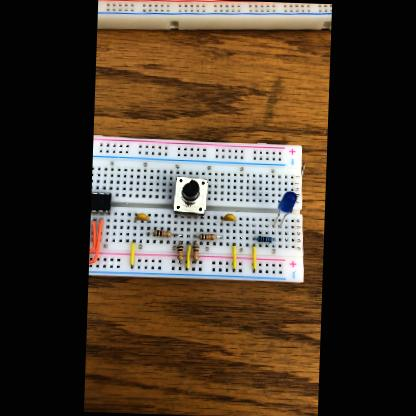breadboard: (89, 137, 309, 283), (97, 0, 332, 37)
resistor: (154, 230, 172, 237), (198, 233, 216, 240), (177, 244, 184, 262), (192, 244, 199, 261), (257, 235, 273, 242)
wire: (272, 212, 280, 227), (280, 214, 286, 227), (147, 232, 153, 236), (172, 234, 182, 236), (217, 236, 223, 238), (194, 241, 198, 244), (187, 243, 190, 246), (234, 222, 236, 226), (194, 236, 198, 238), (180, 240, 182, 244), (193, 262, 197, 264), (178, 262, 182, 264), (234, 268, 236, 272), (93, 219, 96, 221), (253, 269, 255, 272), (131, 265, 133, 268), (148, 220, 150, 222), (253, 238, 257, 239), (273, 238, 275, 240), (234, 244, 236, 246), (252, 244, 254, 246), (133, 240, 135, 242), (186, 268, 188, 270), (221, 221, 222, 224), (135, 221, 136, 223)
